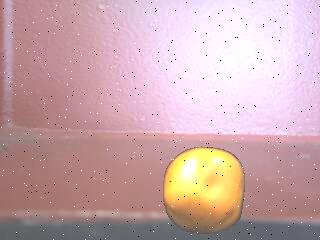Potato: (163, 148, 246, 235)
